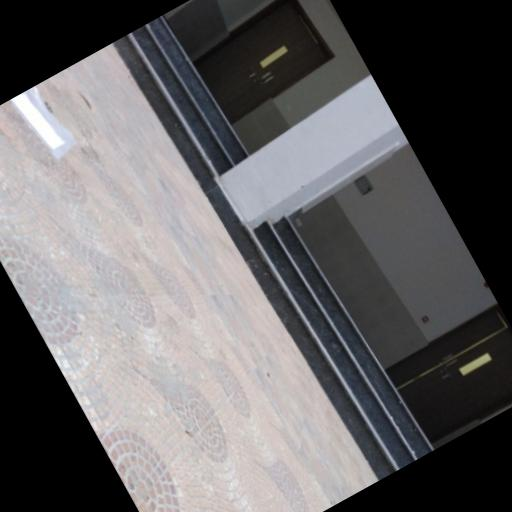stairs: (114, 17, 432, 480), (114, 16, 247, 183)
